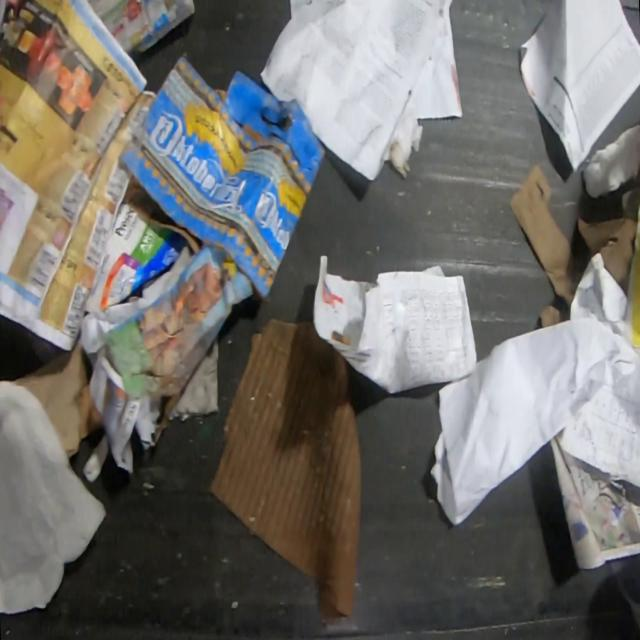cardboard: (118, 52, 326, 303), (210, 316, 362, 622), (508, 161, 634, 308), (9, 330, 104, 456), (85, 202, 186, 316)
